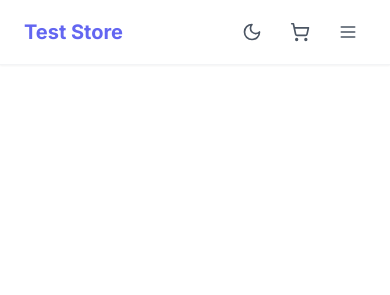
Test: StoreNav › should toggle the mobile menu on button click
Check: the text "Home" is not shown
Open mobile menu
Click the button named "toggle menu" at (348, 32), box left=330, top=14, right=366, bottom=50
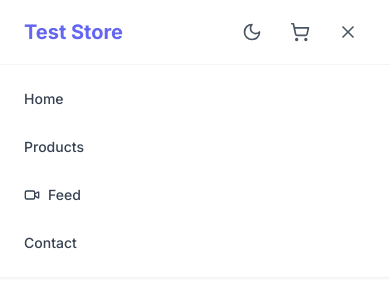
Check: the link "Home" is shown, box left=24, top=90, right=64, bottom=107
Check: the link "Products" is shown, box left=24, top=138, right=84, bottom=155
Close mobile menu
Click the button named "toggle menu" at (348, 32), box left=330, top=14, right=366, bottom=50
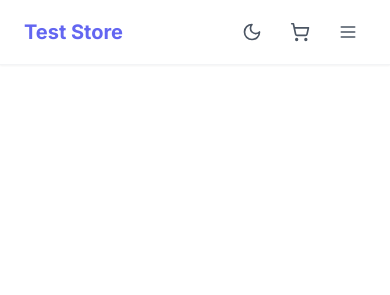
Check: the link "Home" is gone
